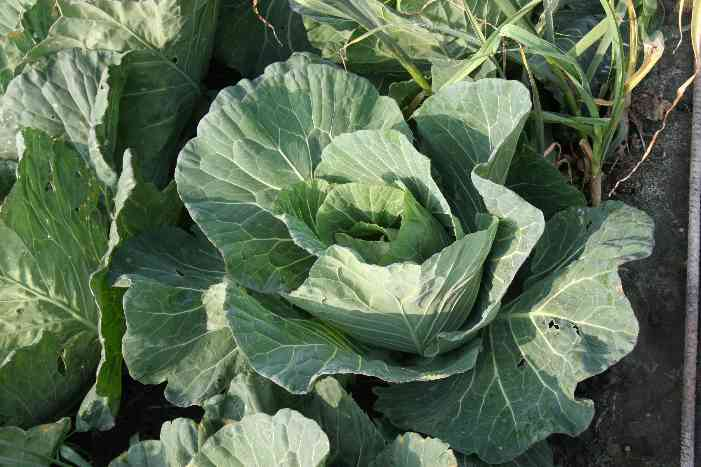cabbage: (175, 48, 549, 394)
